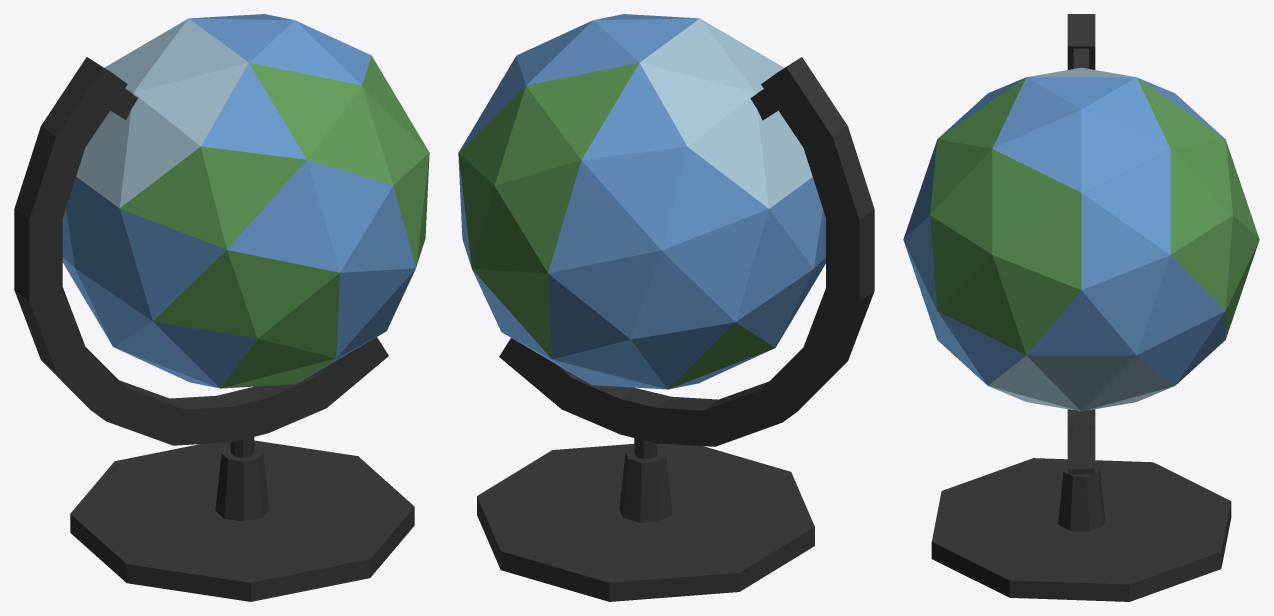
Rendered from Int_Globe01.fbx.
3 views of the same model, side by side, from view 1: azimuth 30°, elevation 25°; view 2: azimuth 150°, elevation 25°; view 3: azimuth 270°, elevation 25° (orthographic). The views are drawn at different scales.
Visible parts, largest first — view 1: Int_Globe01; view 2: Int_Globe01; view 3: Int_Globe01.
Boxes of the visible parts, x1=… form: Int_Globe01: x1=14, y1=14, x2=429, y2=601; Int_Globe01: x1=458, y1=14, x2=874, y2=601; Int_Globe01: x1=903, y1=14, x2=1259, y2=601.
Size of what is drawn, in the model's own units: 47.5 by 41.44 by 58.86.
